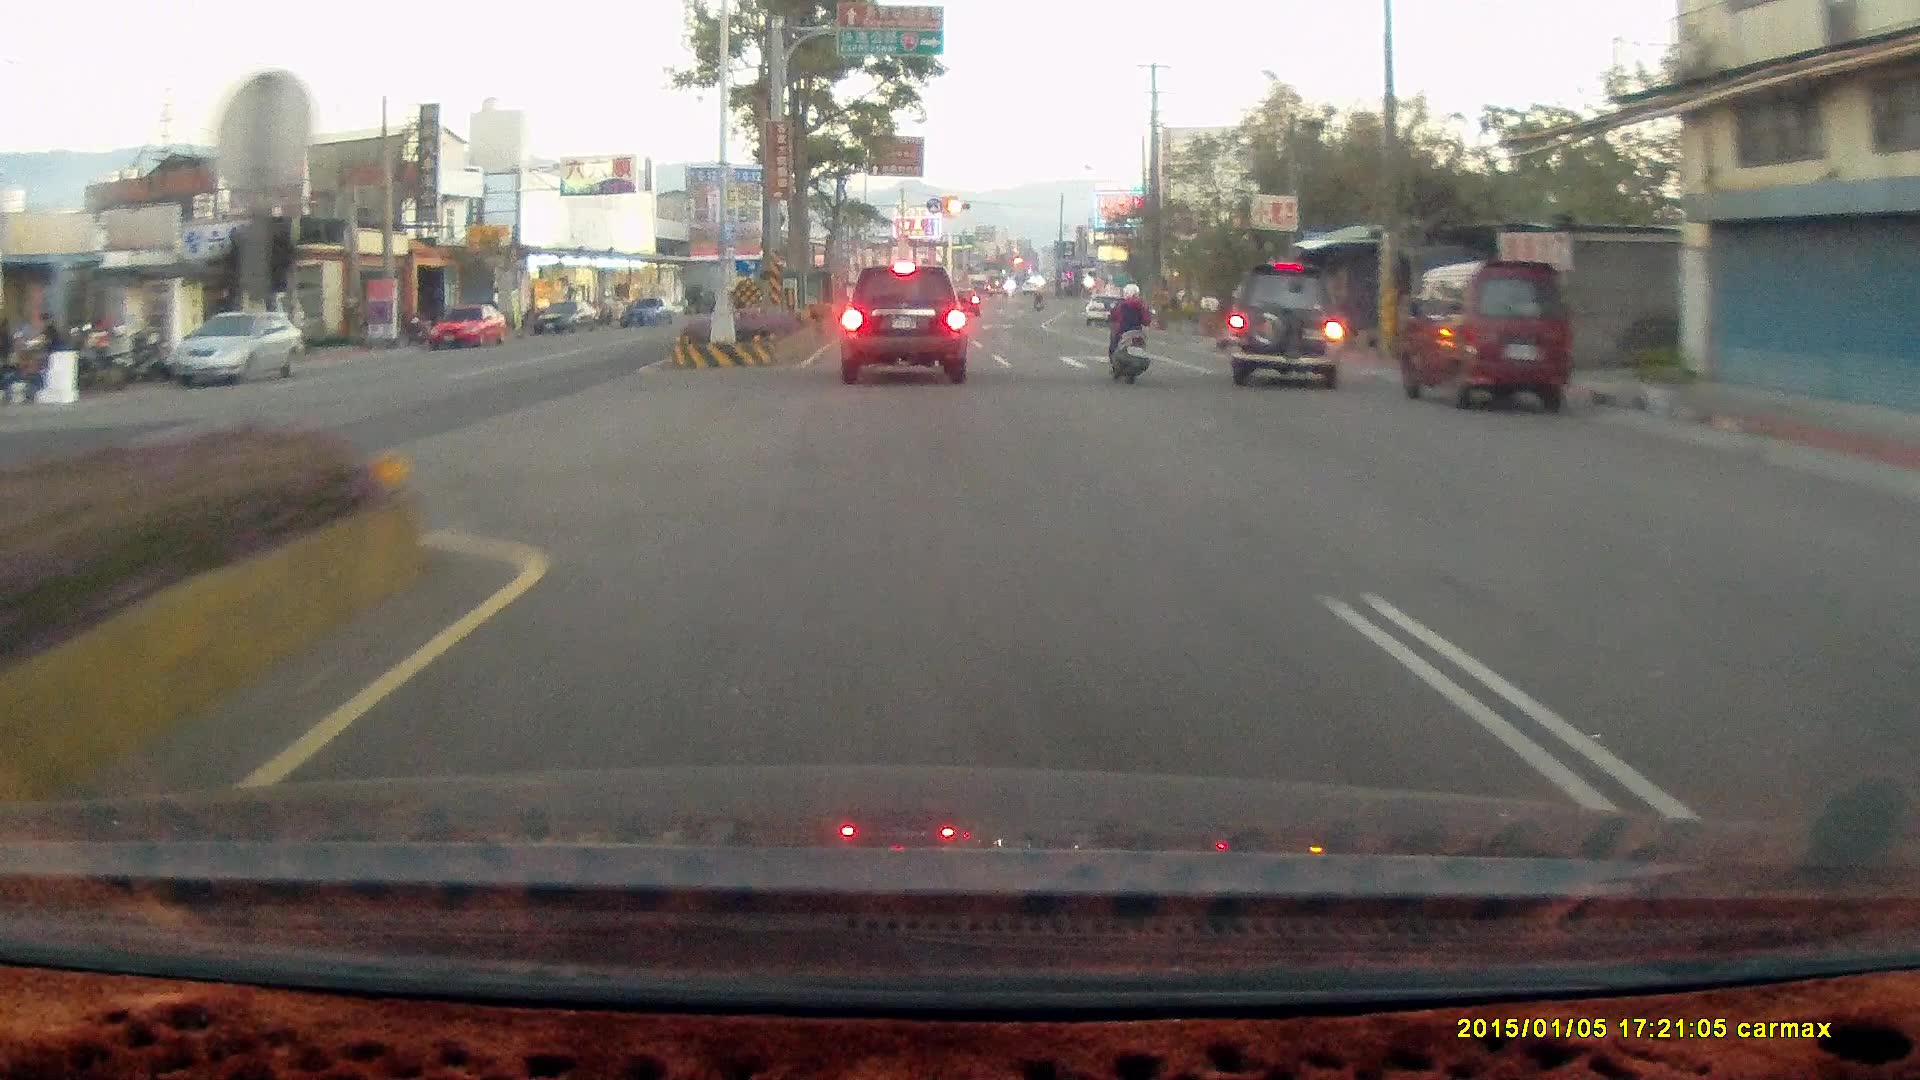pedestrian: (34, 307, 65, 381)
rider: (1105, 280, 1152, 385)
vehicle: (1393, 261, 1573, 414), (1401, 265, 1577, 414), (1223, 269, 1354, 392), (838, 264, 967, 383), (1224, 262, 1345, 388), (169, 310, 302, 391), (168, 309, 304, 387), (1896, 493, 1920, 836), (1883, 528, 1920, 690), (425, 305, 509, 351), (427, 303, 507, 349), (1083, 294, 1126, 325)
